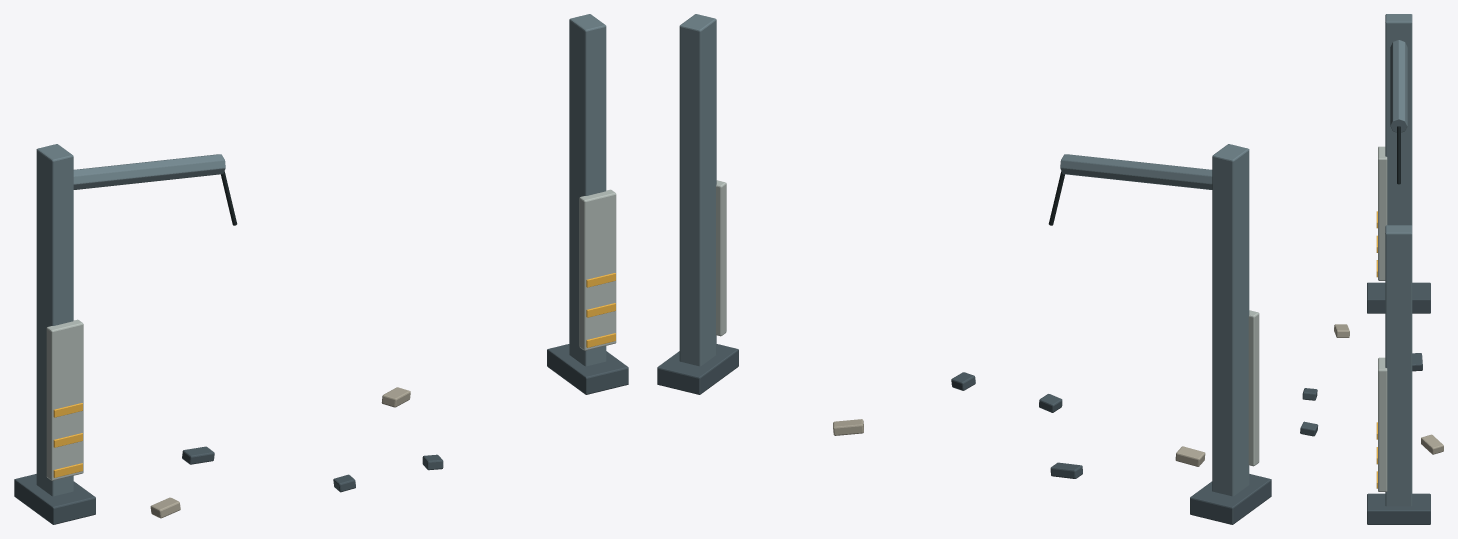
Rendered from gantry_module_d2.glb.
3 views of the same model, side by side, from view 1: azimuth 30°, elevation 25°; view 2: azimuth 150°, elevation 25°; view 3: azimuth 270°, elevation 25° (orthographic). The views are drawn at different scales.
Parts seen in each view (by area): view 1: Gantry column.028, Gantry column.029, Column armor.028, Column armor.029, Sheared gantry chord.003, Gantry footing.028, Gantry footing.029; view 2: Gantry column.028, Gantry column.029, Sheared gantry chord.003, Gantry footing.028, Gantry footing.029, Column armor.028, Column armor.029; view 3: Gantry column.029, Gantry column.028, Gantry footing.029, Sheared gantry chord.003, Column armor.029, Column armor.028, Gantry footing.028, Debris fragment.086, Hanging service wire.003, Debris fragment.085, Debris fragment.088, Debris fragment.089.
Boxes of the visible parts, x1=… form: Gantry column.028: x1=36, y1=144, x2=73, y2=496; Gantry column.029: x1=569, y1=14, x2=606, y2=366; Column armor.028: x1=46, y1=319, x2=83, y2=480; Column armor.029: x1=579, y1=189, x2=616, y2=350; Sheared gantry chord.003: x1=73, y1=154, x2=225, y2=189; Gantry footing.028: x1=14, y1=474, x2=95, y2=524; Gantry footing.029: x1=547, y1=344, x2=628, y2=394; Gantry column.028: x1=1212, y1=144, x2=1249, y2=496; Gantry column.029: x1=679, y1=14, x2=716, y2=366; Sheared gantry chord.003: x1=1060, y1=154, x2=1212, y2=189; Gantry footing.028: x1=1190, y1=474, x2=1271, y2=524; Gantry footing.029: x1=657, y1=344, x2=738, y2=394; Column armor.028: x1=1248, y1=310, x2=1259, y2=466; Column armor.029: x1=716, y1=180, x2=726, y2=336; Gantry column.029: x1=1385, y1=225, x2=1412, y2=506; Gantry column.028: x1=1385, y1=14, x2=1412, y2=225; Gantry footing.029: x1=1367, y1=493, x2=1430, y2=524; Sheared gantry chord.003: x1=1390, y1=40, x2=1407, y2=132; Column armor.029: x1=1378, y1=357, x2=1387, y2=491; Column armor.028: x1=1378, y1=146, x2=1387, y2=280; Gantry footing.028: x1=1367, y1=282, x2=1430, y2=313; Debris fragment.086: x1=1421, y1=434, x2=1443, y2=454; Hanging service wire.003: x1=1397, y1=126, x2=1400, y2=184; Debris fragment.085: x1=1300, y1=421, x2=1318, y2=436; Debris fragment.088: x1=1334, y1=324, x2=1349, y2=337; Debris fragment.089: x1=1412, y1=353, x2=1422, y2=371.
Size of the model in its own units: 8 by 4.71 by 2.13.
